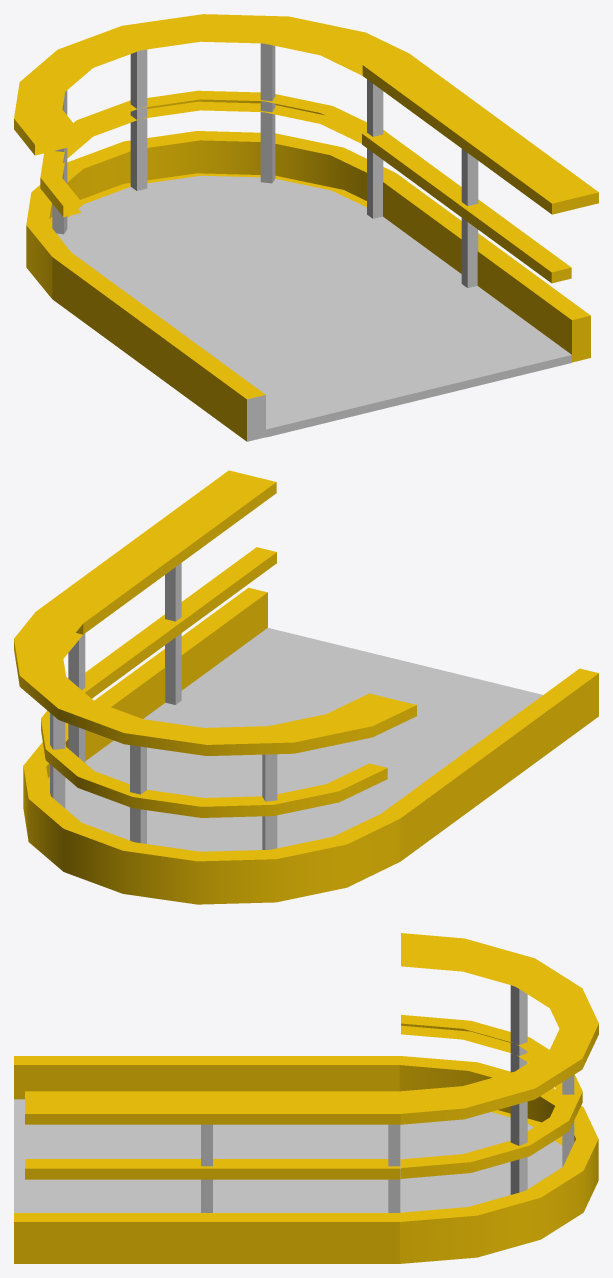
The model's file is CatwalkEnd.fbx.
The picture shows the model from 3 angles, top to bottom: view 1: azimuth 30°, elevation 25°; view 2: azimuth 150°, elevation 25°; view 3: azimuth 270°, elevation 25°; orthographic projection. The views are drawn at different scales.
Visible parts, largest first — view 1: Cube.001; view 2: Cube.001; view 3: Cube.001.
Part boxes in pixels (x1,y1,x2,y2): Cube.001: (14, 14, 598, 441); Cube.001: (14, 470, 598, 904); Cube.001: (14, 933, 598, 1263).
Bounding box in the file's own units: 228 × 92.82 × 312.
